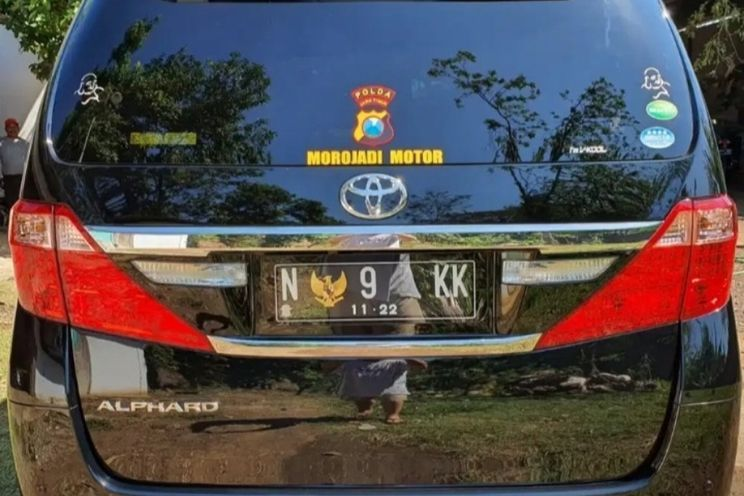plat nomor: (270, 258, 479, 322)
